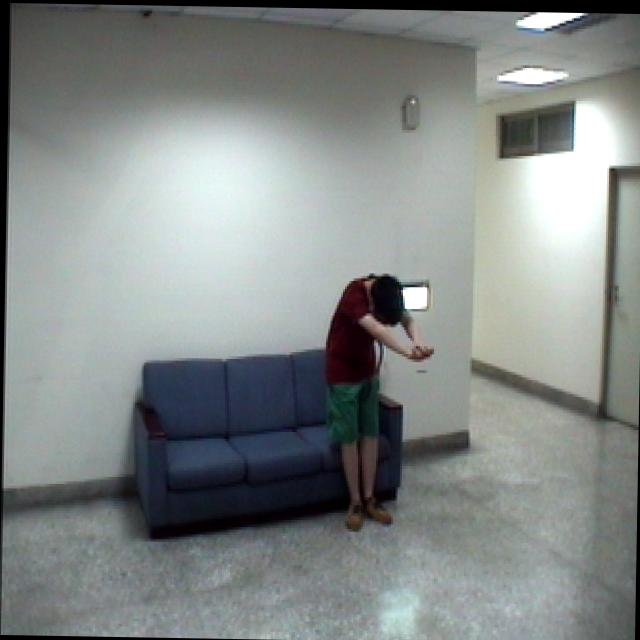bend: (314, 270, 436, 540)
